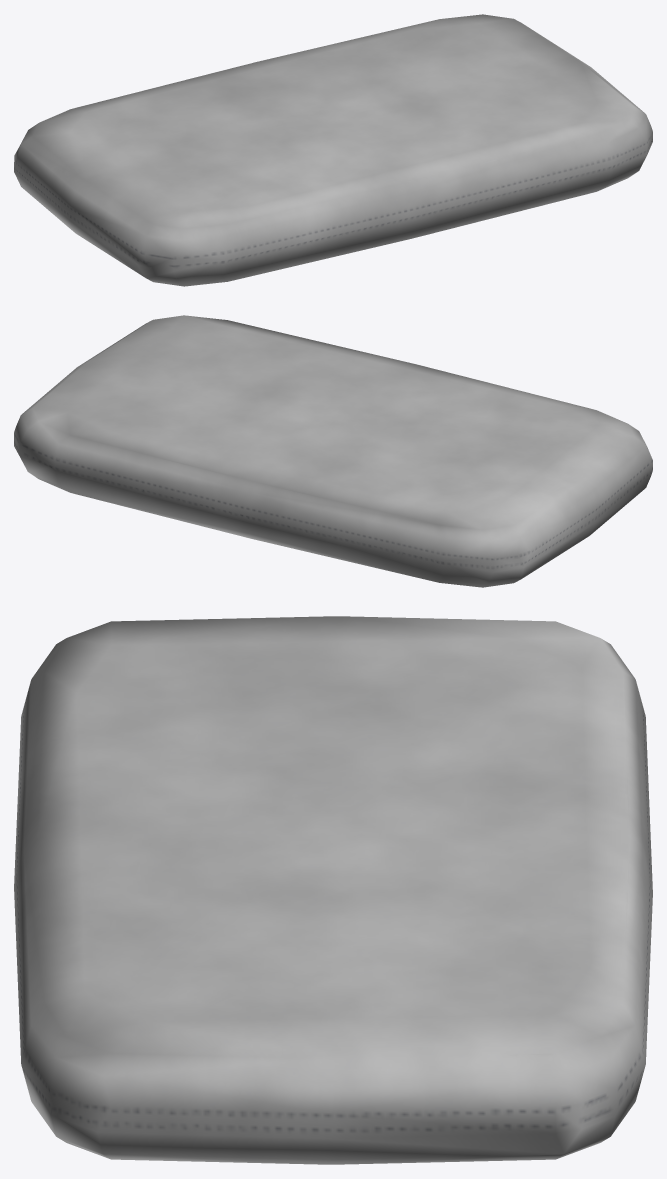
File: LowerTorso_C1.fbx
3 views of the same model, one above another, from view 1: azimuth 30°, elevation 25°; view 2: azimuth 150°, elevation 25°; view 3: azimuth 270°, elevation 25° (orthographic). The views are drawn at different scales.
Visible parts, largest first — view 1: Civ_RemeraEstampa_LowerTorso_C1; view 2: Civ_RemeraEstampa_LowerTorso_C1; view 3: Civ_RemeraEstampa_LowerTorso_C1.
Boxes of the visible parts, left/top/right/bottom form: Civ_RemeraEstampa_LowerTorso_C1: left=14, top=14, right=652, bottom=286; Civ_RemeraEstampa_LowerTorso_C1: left=14, top=315, right=652, bottom=587; Civ_RemeraEstampa_LowerTorso_C1: left=14, top=616, right=652, bottom=1164.
Size of the model in its own units: 2.25 by 0.2805 by 1.29.
